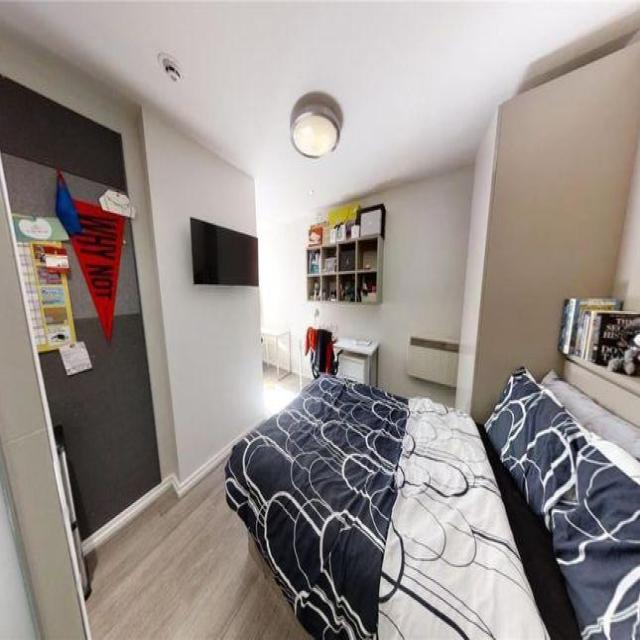Wall: (0, 1, 640, 215), (1, 28, 263, 492), (456, 41, 640, 422), (258, 165, 474, 404), (0, 161, 90, 639), (86, 461, 309, 639), (614, 137, 640, 310), (264, 369, 299, 415)
